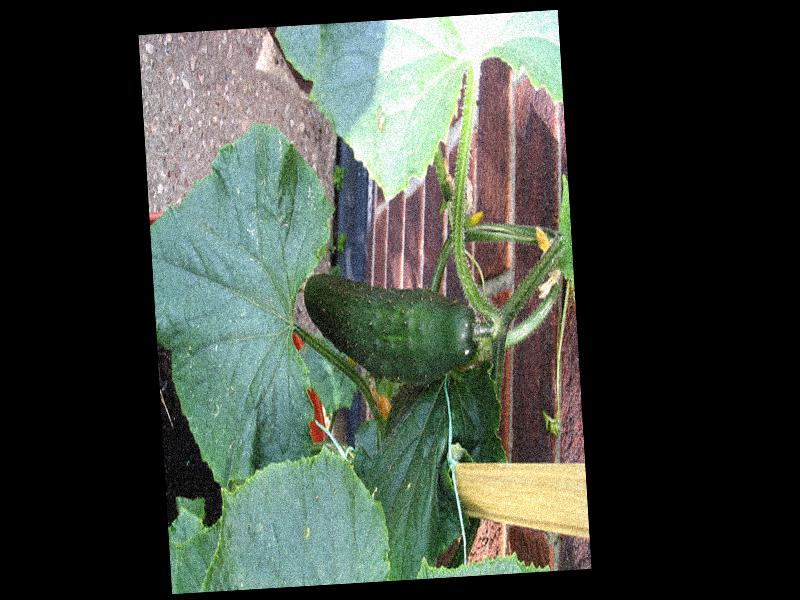Cucumber: (302, 261, 479, 389)
